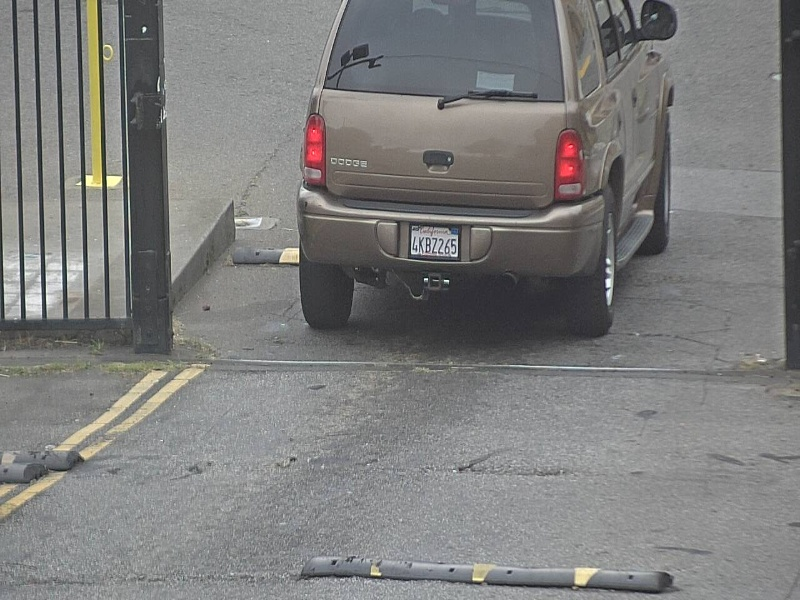licence plate: (407, 221, 461, 261)
